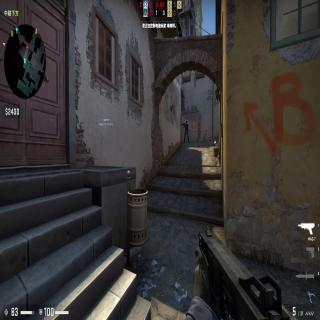T-Body: (183, 121, 190, 144)
